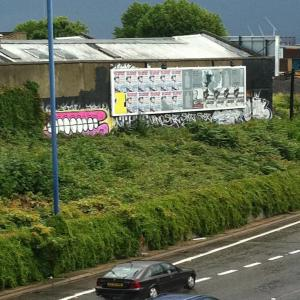Vehicle-registration-plate: (108, 284, 124, 287)
